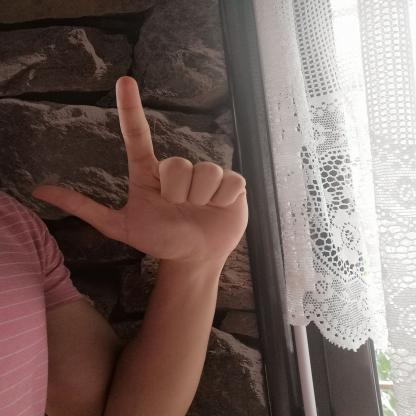LAAM: (11, 67, 260, 272)
